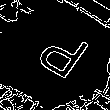P_SW: (22, 24, 88, 86)
